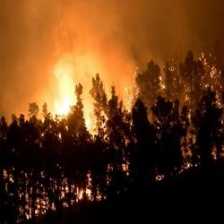fire: (48, 76, 119, 133), (30, 182, 96, 212)
